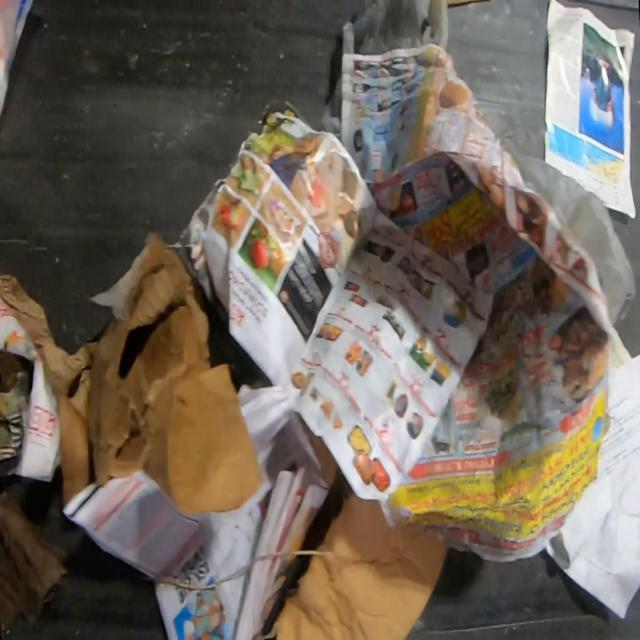cardboard: (0, 231, 264, 514), (266, 485, 452, 639), (0, 486, 65, 640)
soft_plastic: (502, 137, 636, 327), (342, 1, 449, 56)
